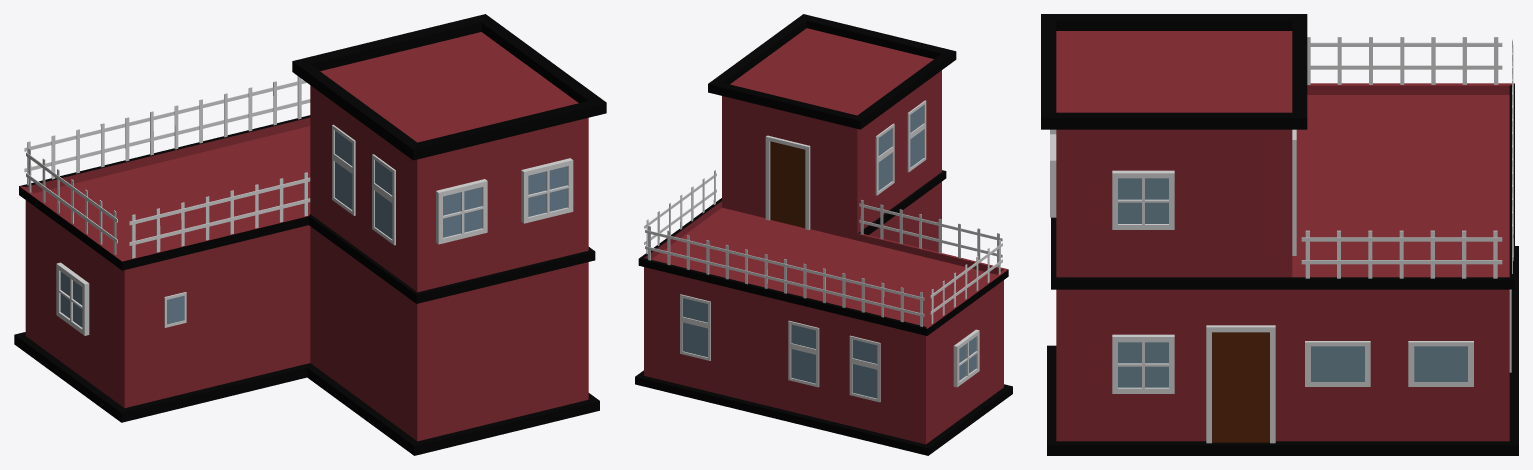
The model's file is first floor fence red.fbx.
3 views of the same model, side by side, from view 1: azimuth 30°, elevation 25°; view 2: azimuth 150°, elevation 25°; view 3: azimuth 270°, elevation 25° (orthographic). The views are drawn at different scales.
Visible parts, largest first — view 1: first floor fence red.001; view 2: first floor fence red.001; view 3: first floor fence red.001.
Boxes of the visible parts, x1,y1,x2,y2 form: first floor fence red.001: (14, 14, 606, 455); first floor fence red.001: (635, 14, 1012, 455); first floor fence red.001: (1041, 14, 1518, 455).
Bounding box in the file's own units: 8.08 × 6.36 × 8.1.
